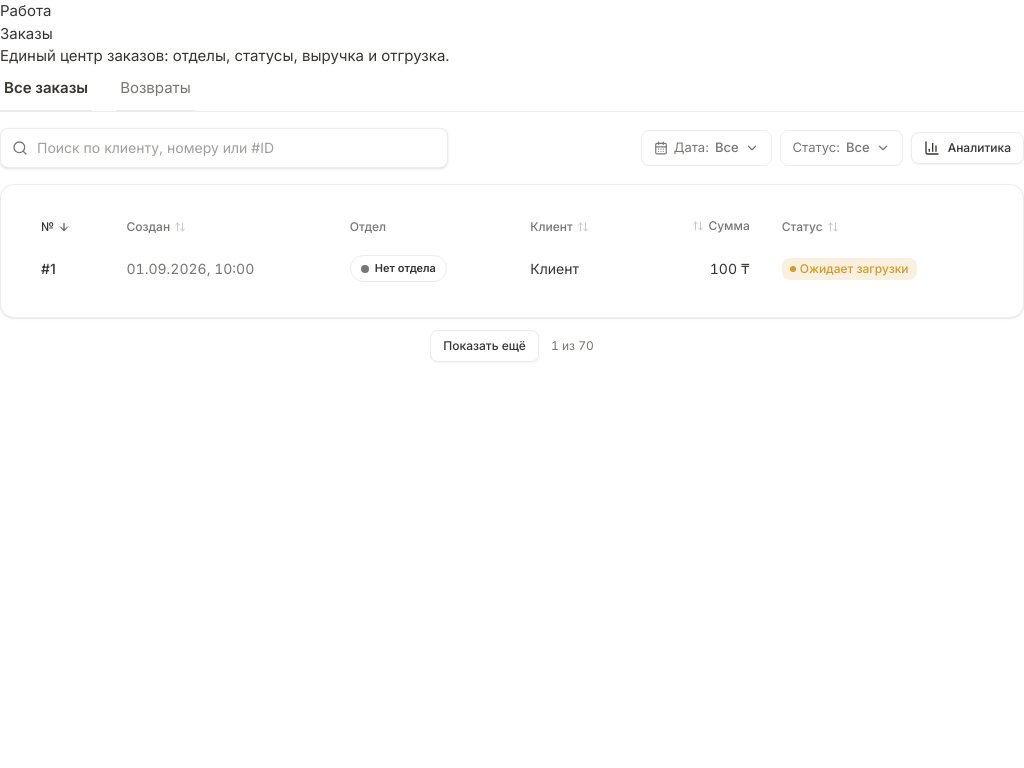
Test: takes «Общая» totals of the whole selection from the server, not from the loaded page
Type "934" into the field with placeholder "Поиск по клиенту, номеру или #ID" at (224, 148), box [0, 128, 448, 168]
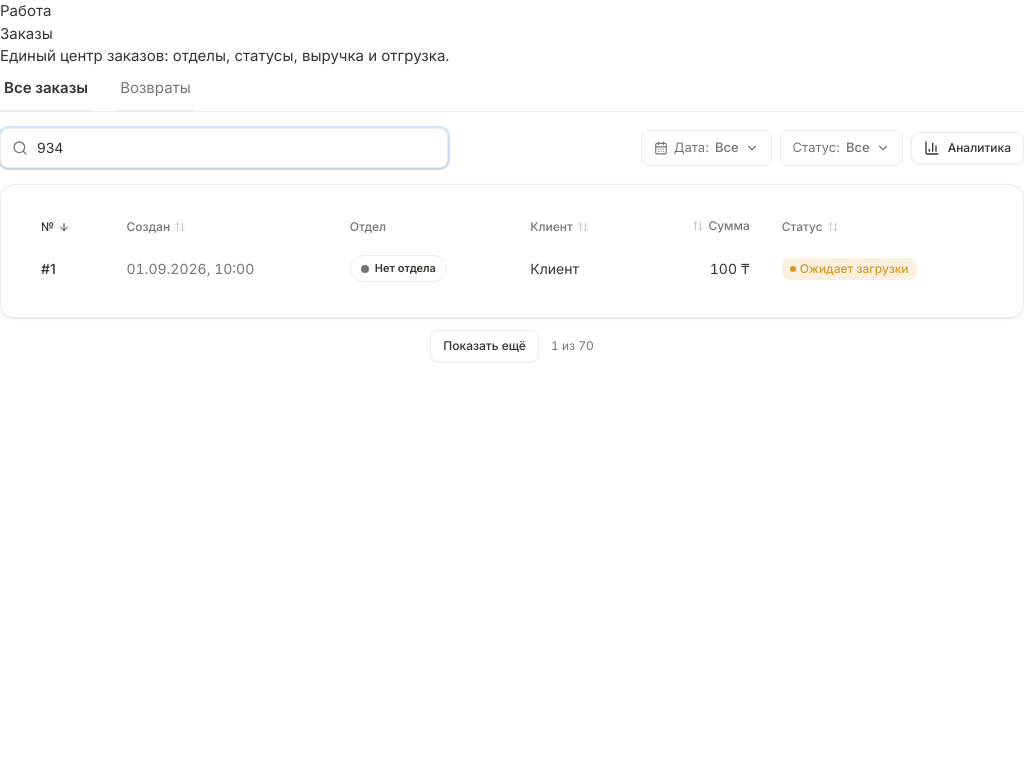
Click the button "Аналитика" at (967, 148), box [911, 132, 1023, 164]
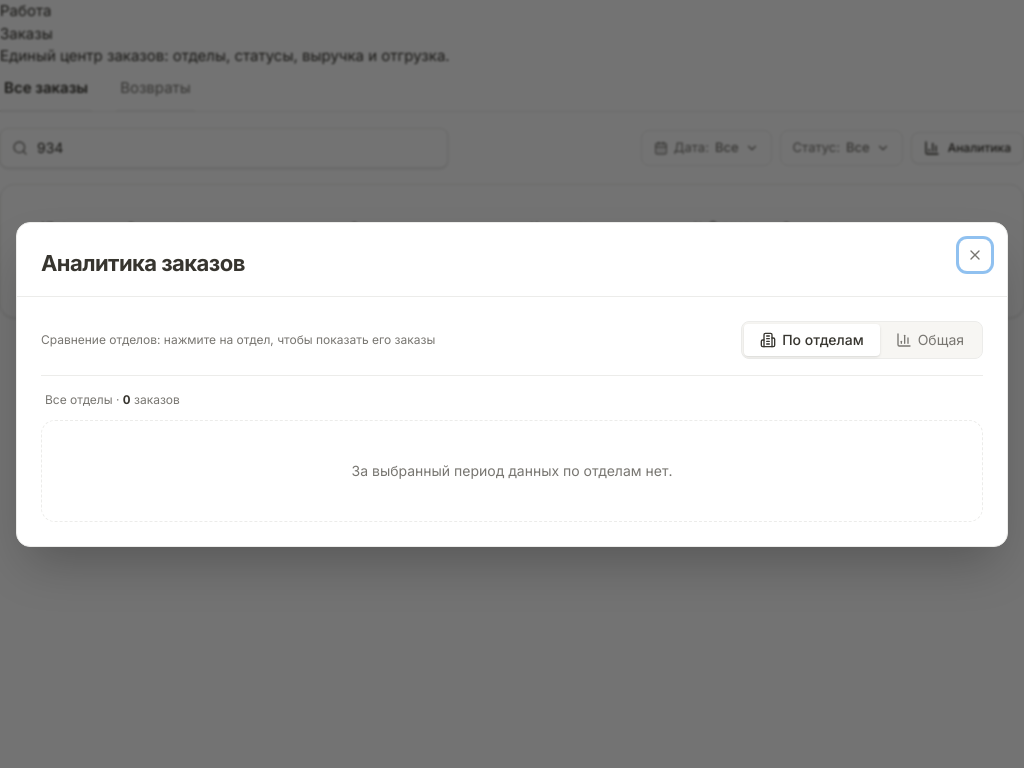
Click the tab "Общая" at (930, 340), box [880, 324, 980, 356]
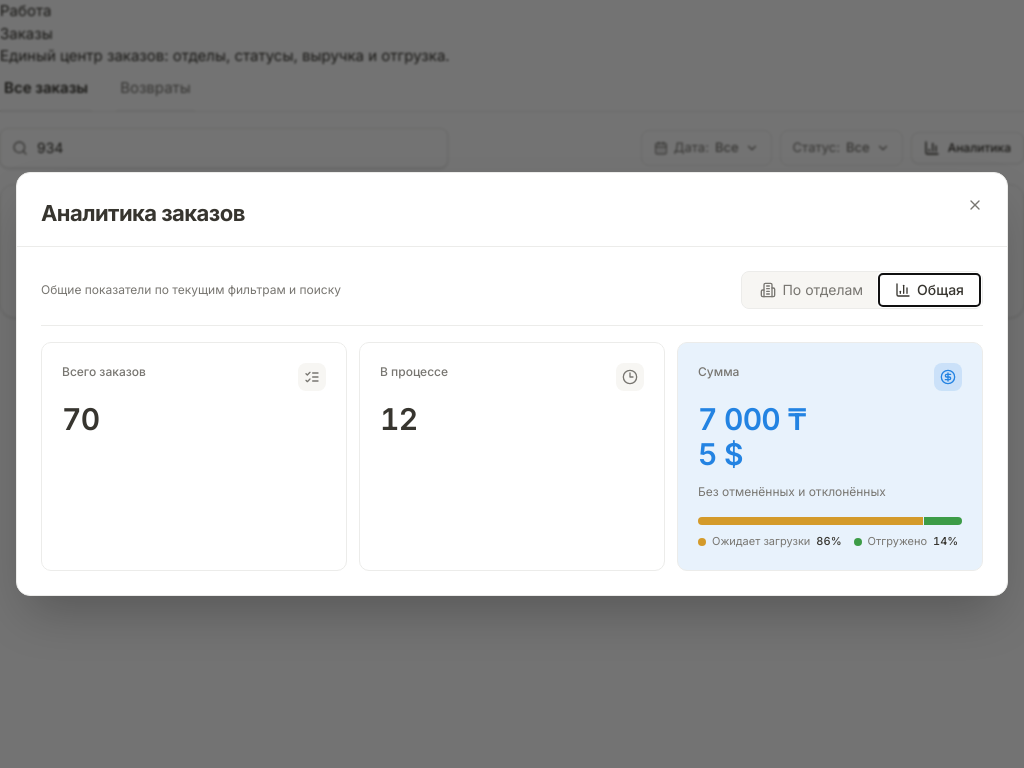
Check: the text "70" is shown, box [62, 401, 99, 437]
Check: the text "12" is shown, box [380, 401, 417, 437]
Check: the text "7 000 ₸" is shown, box [698, 403, 806, 436]
